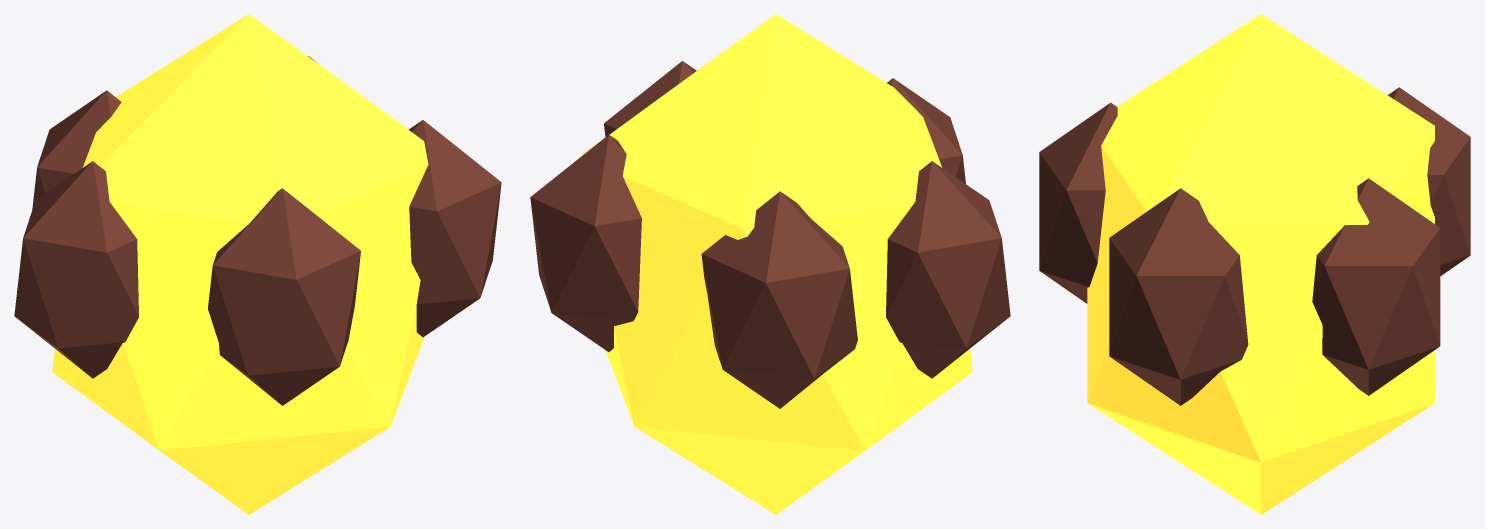
The model's file is LavaGlob.fbx.
3 views of the same model, side by side, from view 1: azimuth 30°, elevation 25°; view 2: azimuth 150°, elevation 25°; view 3: azimuth 270°, elevation 25° (orthographic).
Parts seen in each view (by area): view 1: LavaCore, Crust1, Crust0, Crust2, Crust4; view 2: LavaCore, Crust4, Crust0, Crust3, Crust1, Crust2; view 3: LavaCore, Crust2, Crust3, Crust1, Crust4.
Boxes of the visible parts, x1=… form: LavaCore: x1=52, y1=14, x2=428, y2=514; Crust1: x1=208, y1=188, x2=360, y2=405; Crust0: x1=14, y1=161, x2=138, y2=378; Crust2: x1=409, y1=120, x2=501, y2=337; Crust4: x1=32, y1=90, x2=121, y2=209; LavaCore: x1=579, y1=14, x2=972, y2=514; Crust4: x1=701, y1=191, x2=857, y2=408; Crust0: x1=886, y1=161, x2=1010, y2=378; Crust3: x1=530, y1=135, x2=641, y2=351; Crust1: x1=887, y1=78, x2=965, y2=183; Crust2: x1=604, y1=61, x2=696, y2=136; LavaCore: x1=1087, y1=14, x2=1434, y2=514; Crust2: x1=1109, y1=188, x2=1248, y2=405; Crust3: x1=1312, y1=178, x2=1440, y2=395; Crust1: x1=1039, y1=102, x2=1117, y2=303; Crust4: x1=1388, y1=87, x2=1470, y2=276.
Bounding box in the file's own units: 0.4127 × 0.46 × 0.3592.
